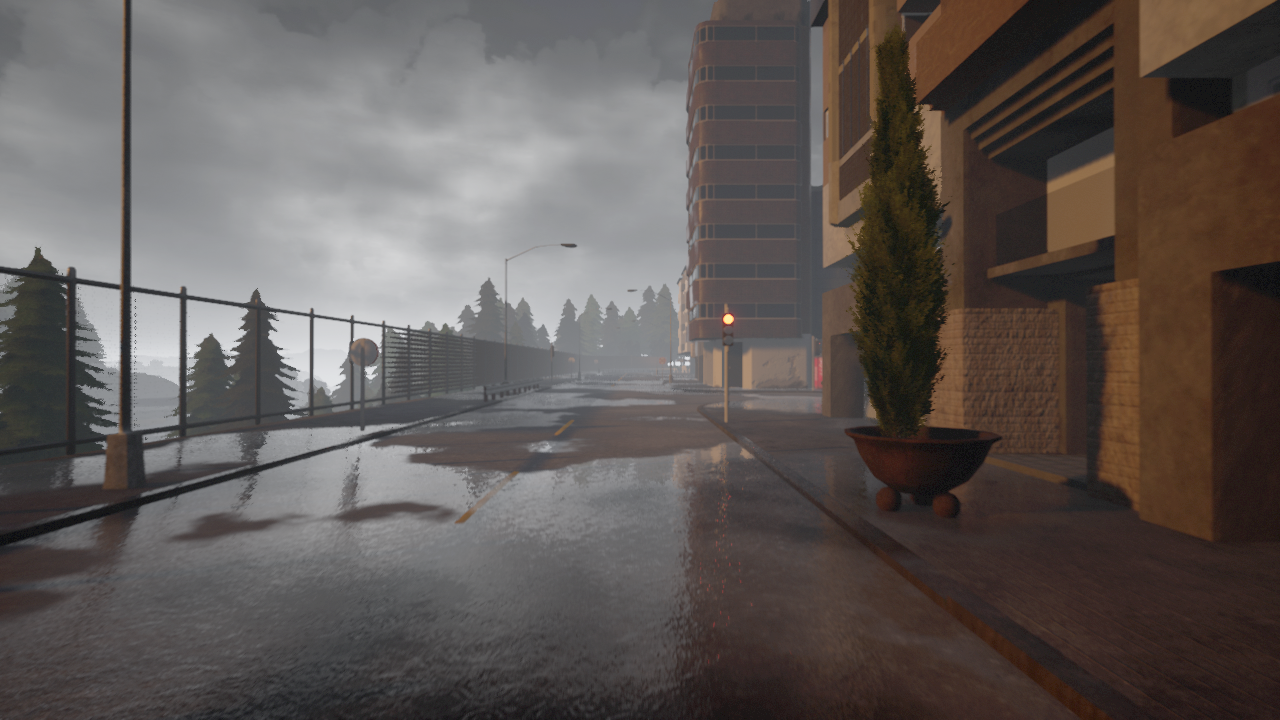red: (721, 311, 736, 346)
